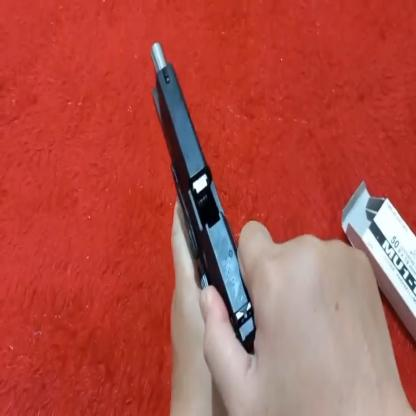handgun: (148, 35, 261, 361)
